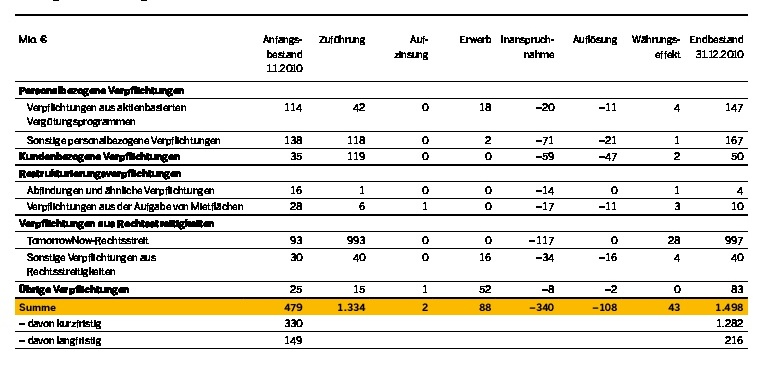table: (0, 0, 768, 365)
